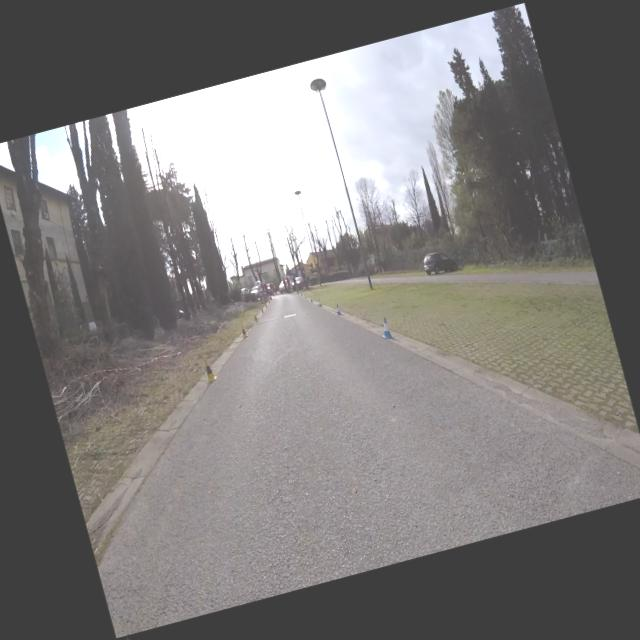blue_cone: (377, 316, 394, 340), (334, 302, 342, 316), (316, 298, 322, 307), (309, 296, 312, 302)
yellow_cone: (201, 358, 218, 382), (240, 324, 248, 338), (253, 313, 258, 322), (260, 307, 264, 313)
